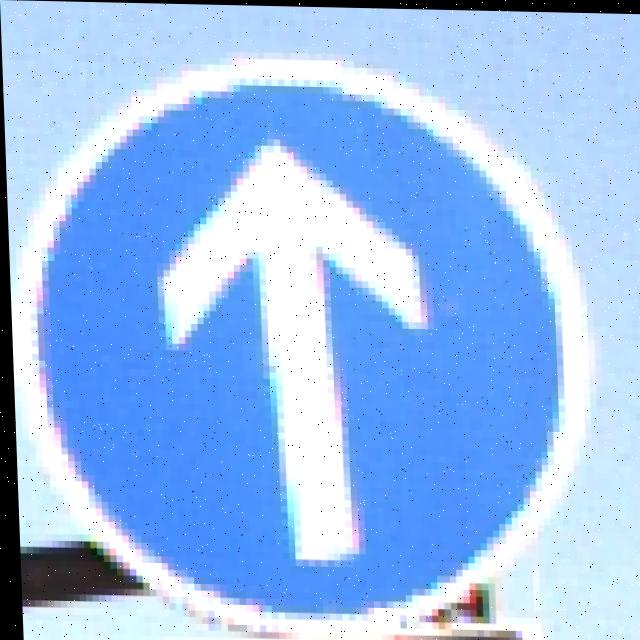compulsory_ahead: (53, 86, 605, 597)
